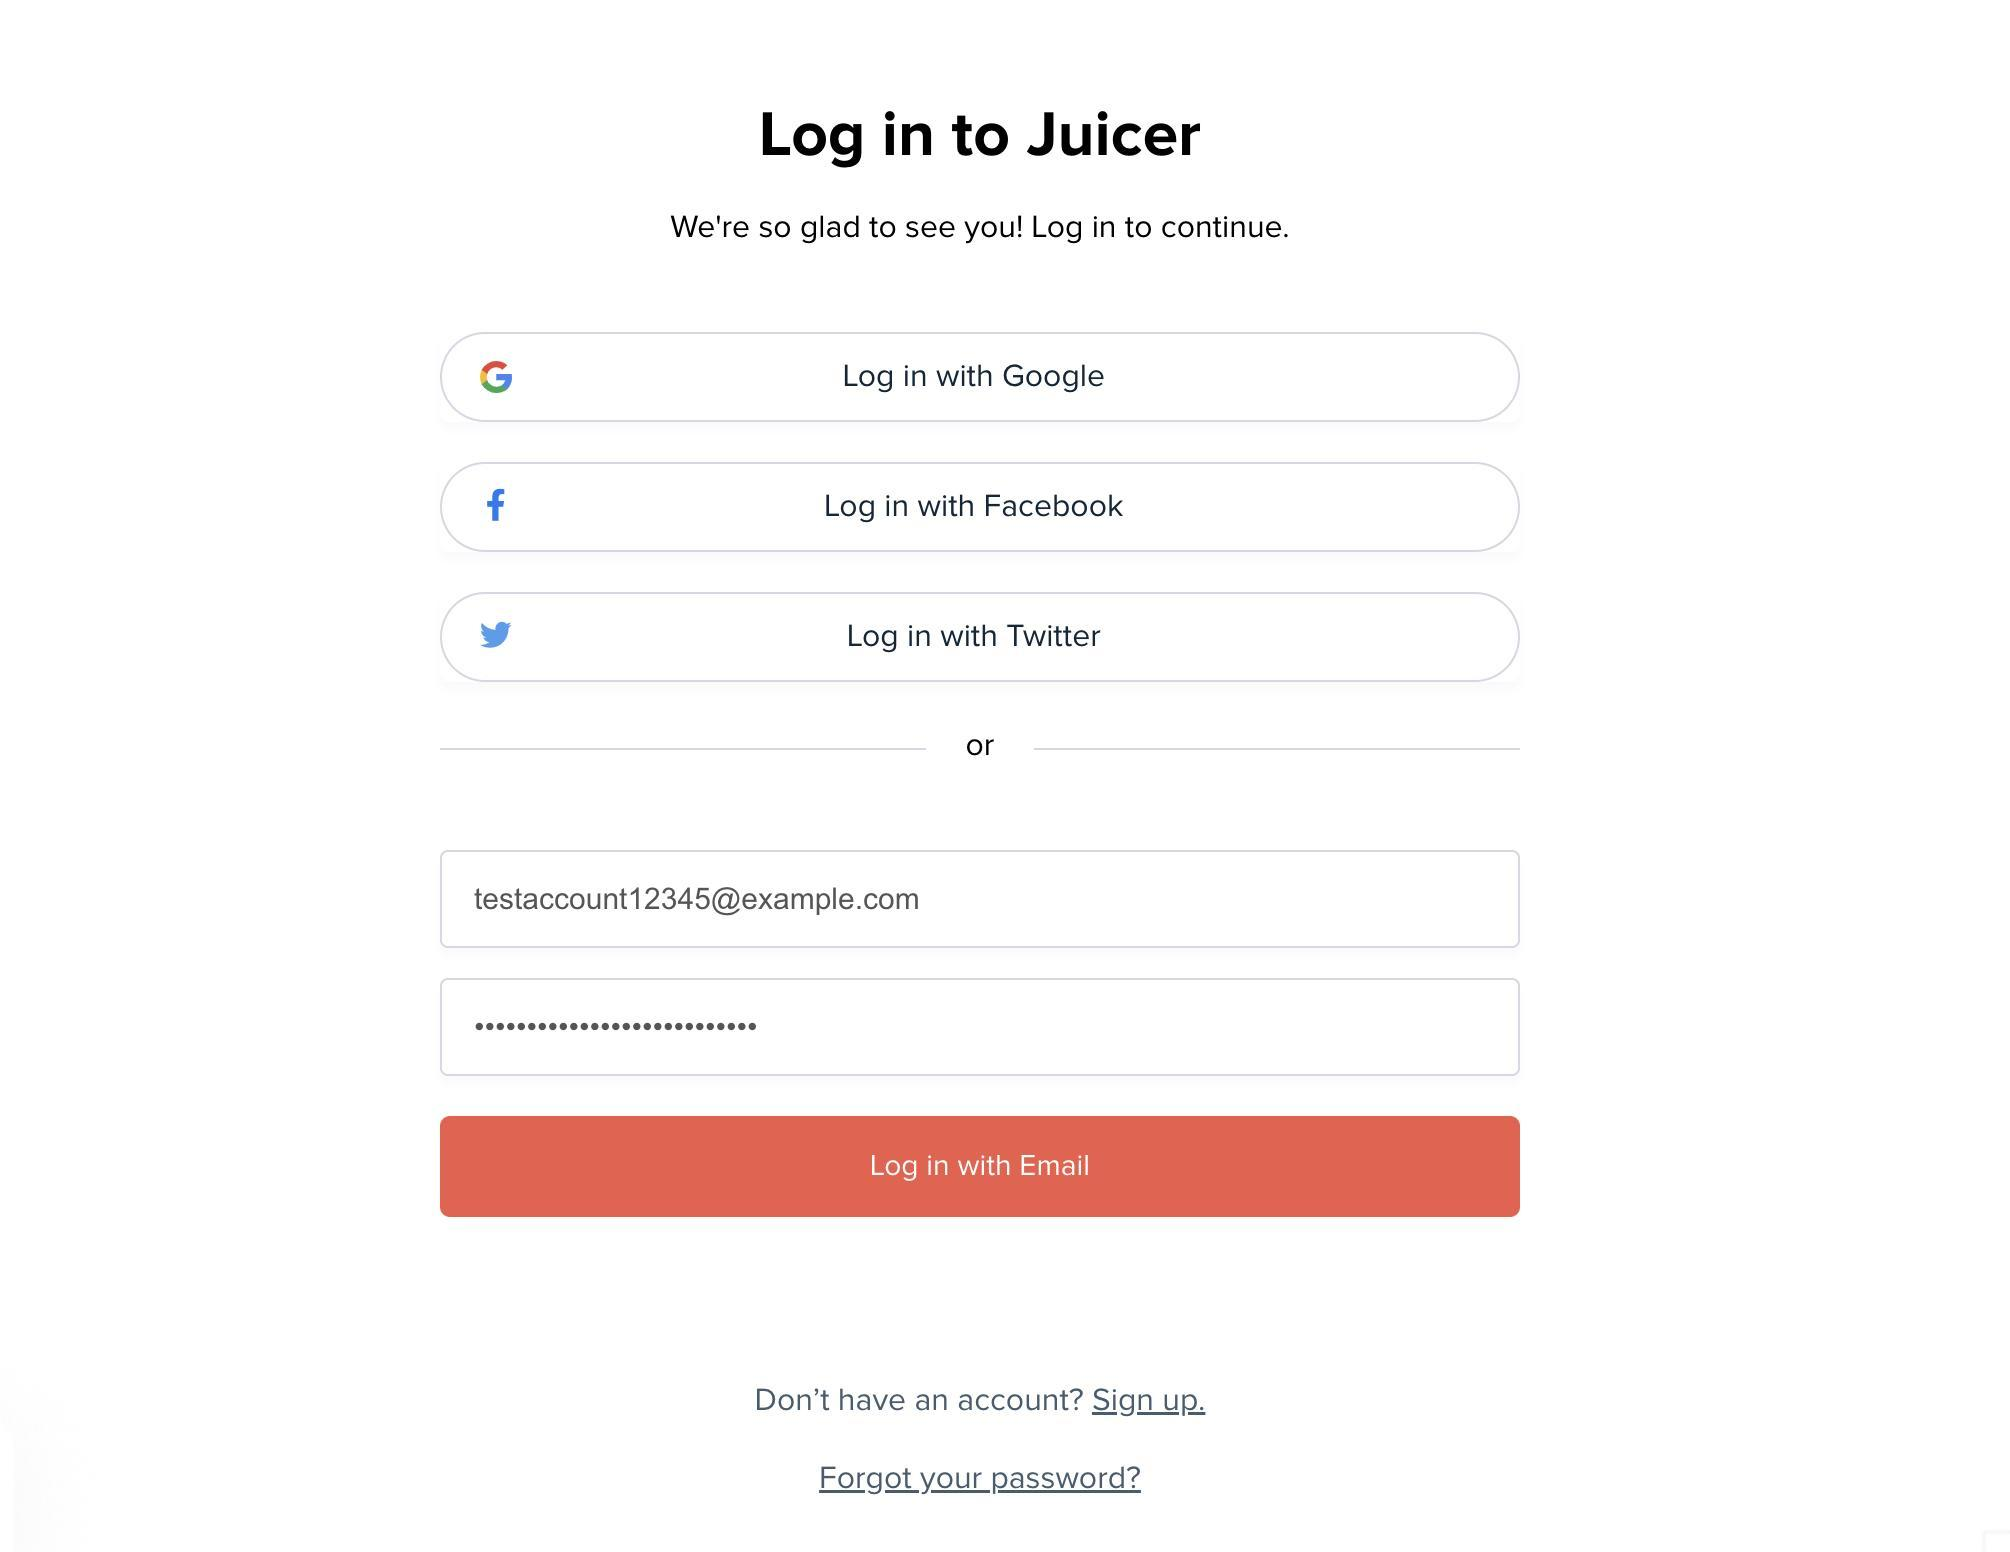button: (442, 582, 1519, 685), (448, 326, 1519, 427), (440, 461, 1519, 561), (437, 1117, 1523, 1215)
input: (442, 848, 1521, 949), (447, 977, 1521, 1074)
